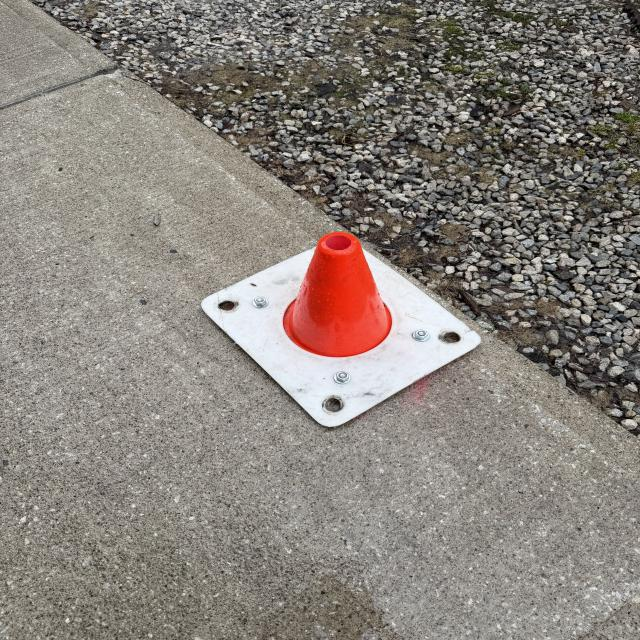Traffic Cone: (199, 230, 483, 429)
